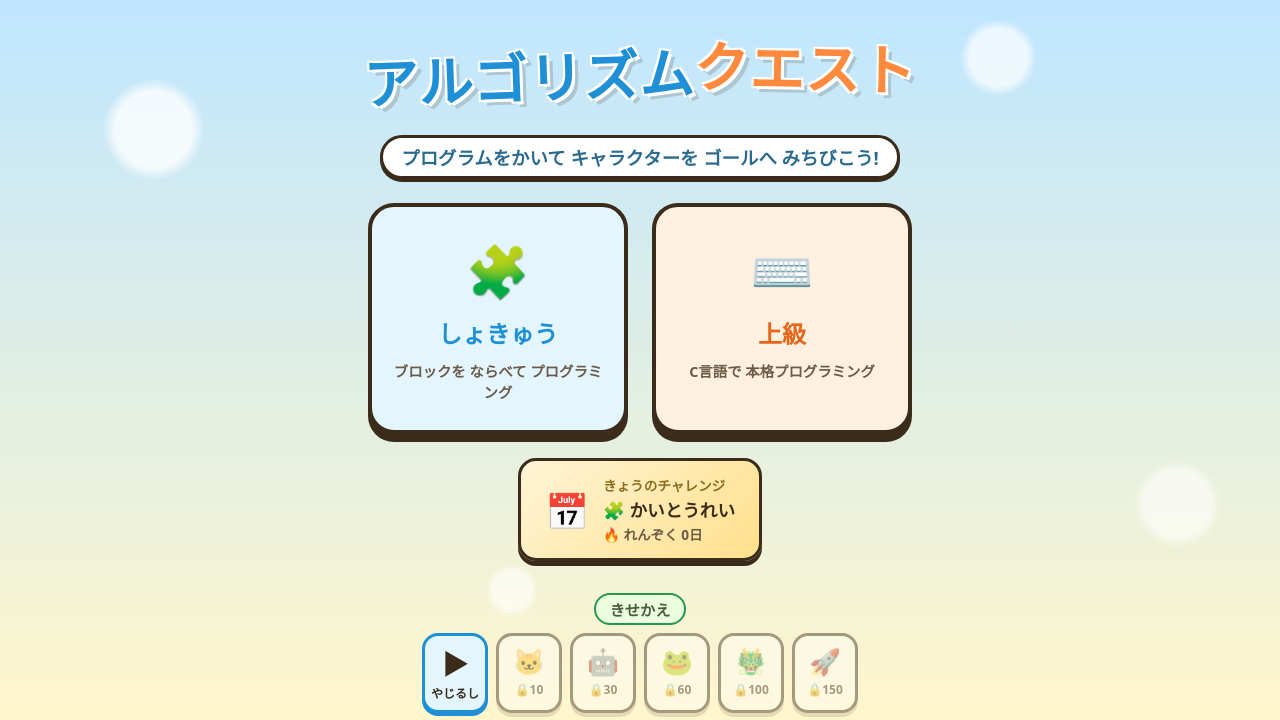
Test: 初級の解答例(ブロック) › 確認ダイアログ→モーダル表示→ワークスペースに読み込める
The width and height of the screenshot is (1280, 720).
Click the button "🧩 しょきゅう ブロックを ならべて プログラミング".
click(498, 318)  # box [368,203,628,434]
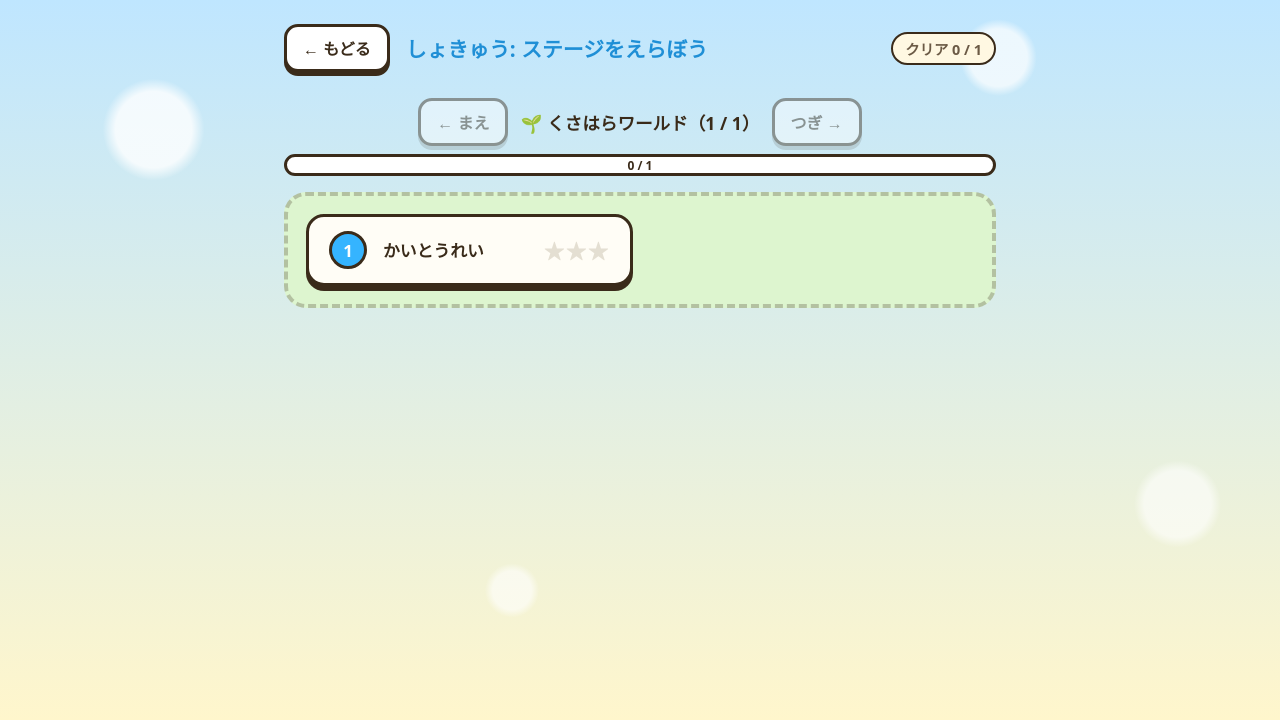
Expected: the button "1 かいとうれい ★★★" is shown
Click the button "1 かいとうれい ★★★".
click(470, 250)  # box [306,214,633,286]
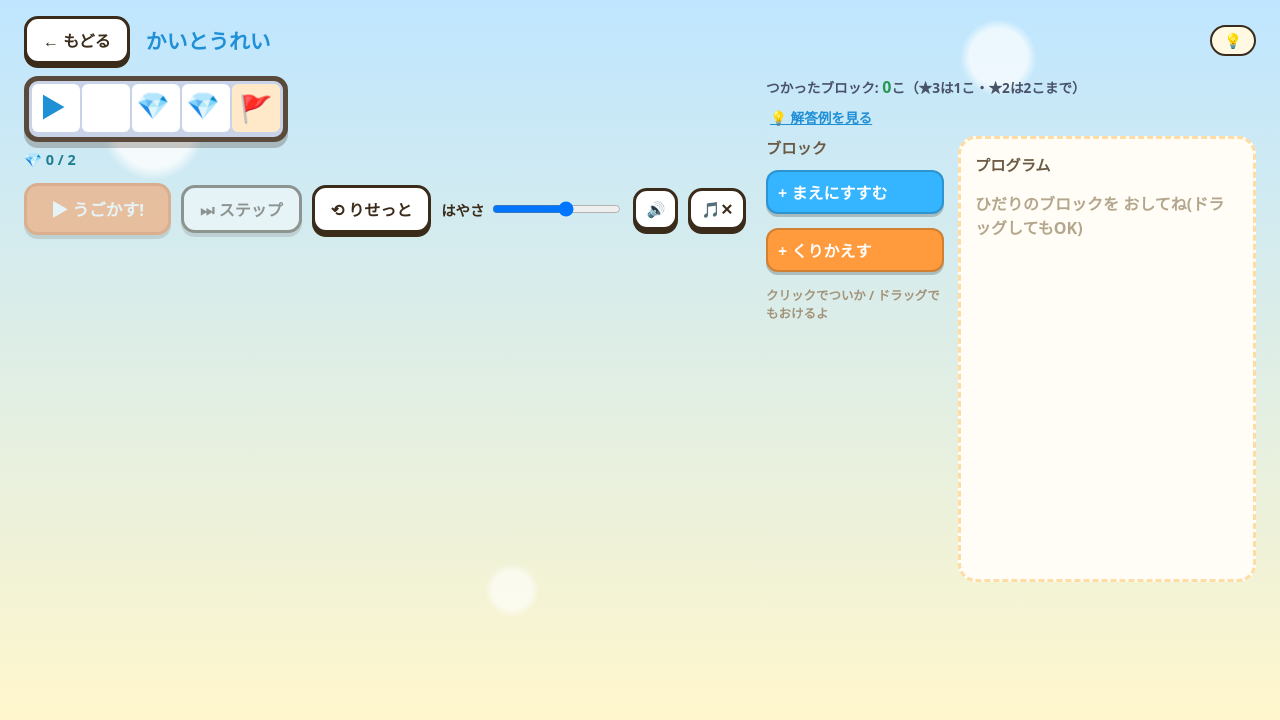
Click the button "💡 解答例を見る".
click(821, 117)  # box [766,107,876,127]
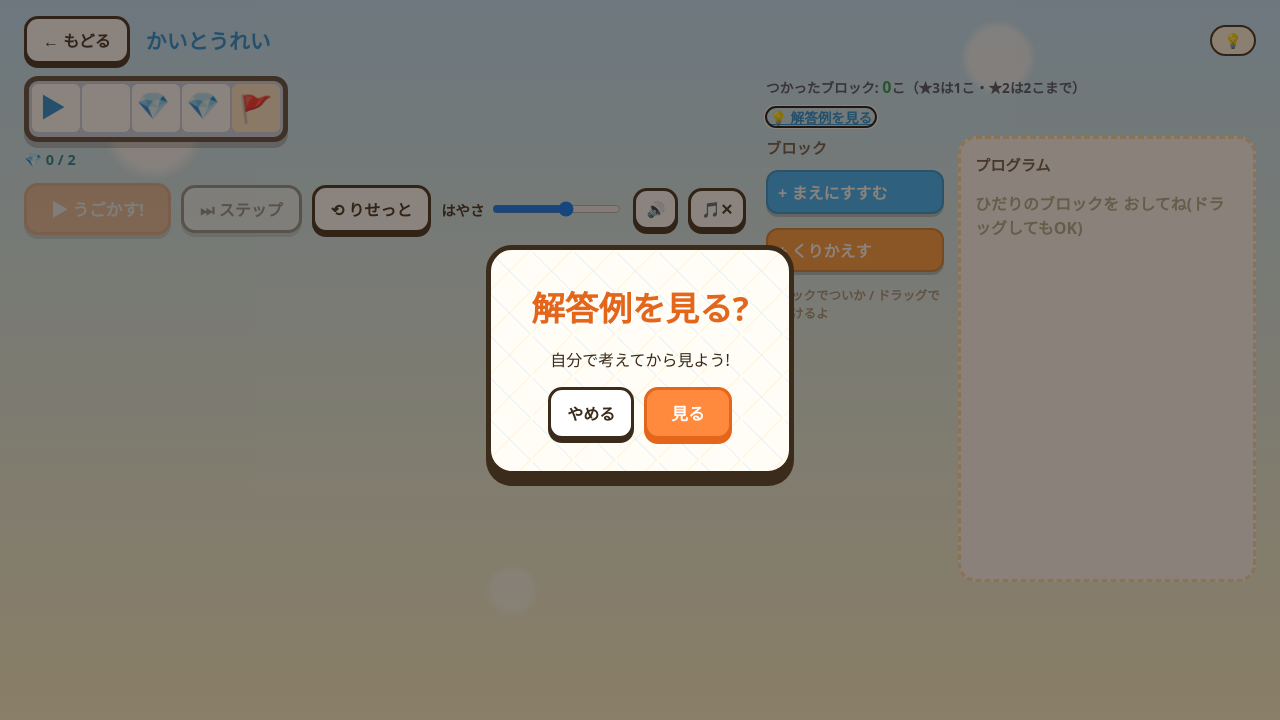
Expected: the text "自分で考えてから見よう!" is shown, [550,348,730,370]
Click the button "見る".
click(688, 412)  # box [644,386,732,438]
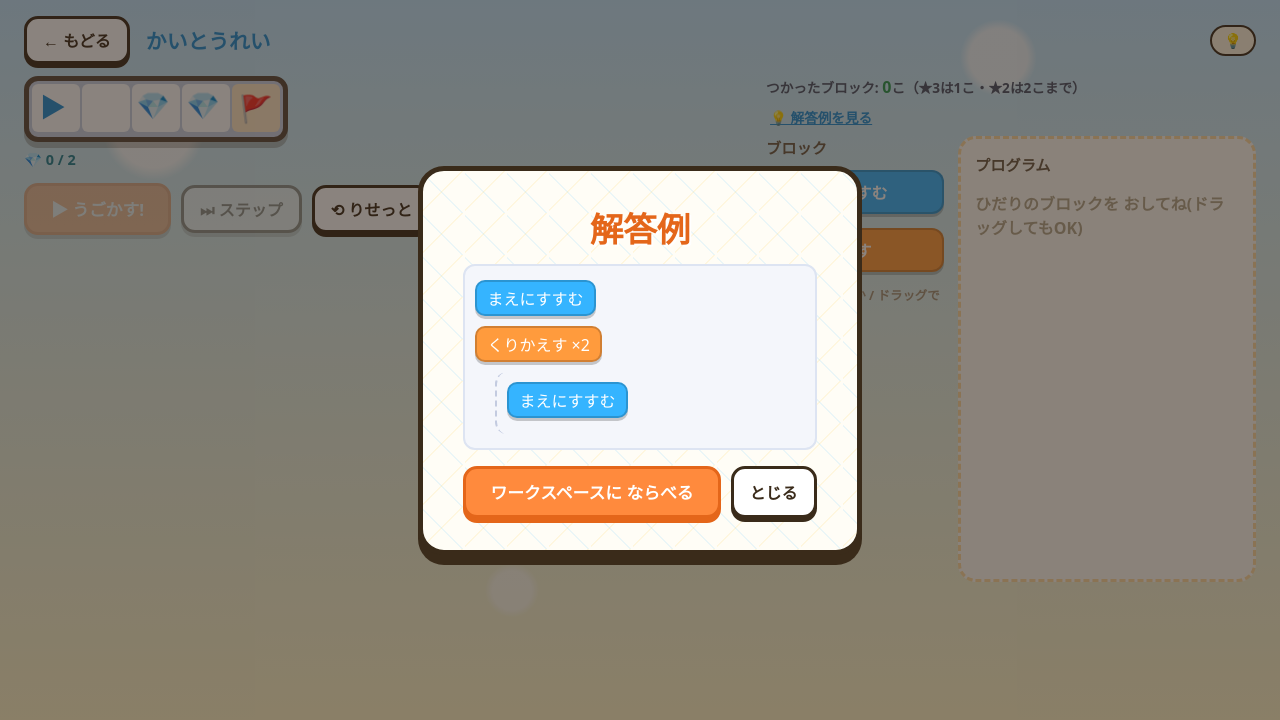
Expected: the heading "解答例" is shown, [590,206,690,252]
Expected: the list with class "solution-blocks" shows "くりかえす ×2", [463,264,817,450]
ワークスペースに読み込む
Click the button "ワークスペースに ならべる".
click(592, 492)  # box [463,466,721,518]
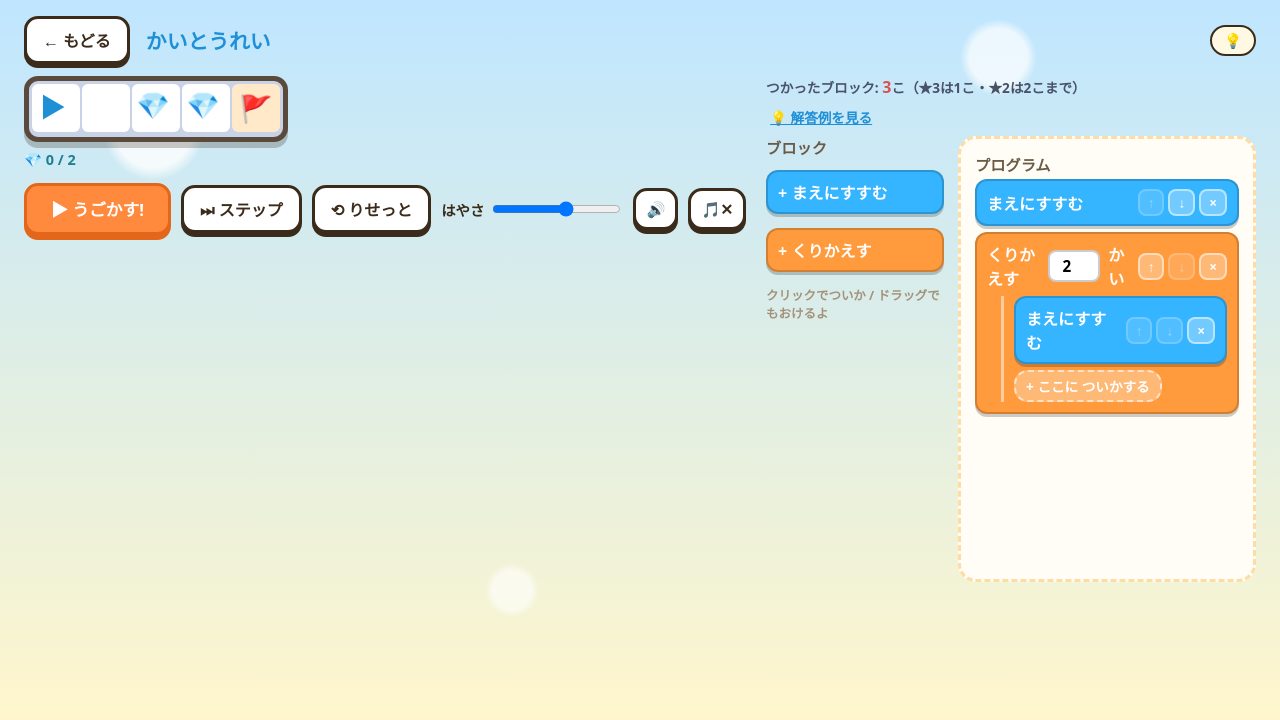
Expected: the element with class "workspace" shows "まえにすすむ", [987,192,1083,214]
Expected: the element with class "workspace" shows "くりかえす", [987,244,1035,290]
